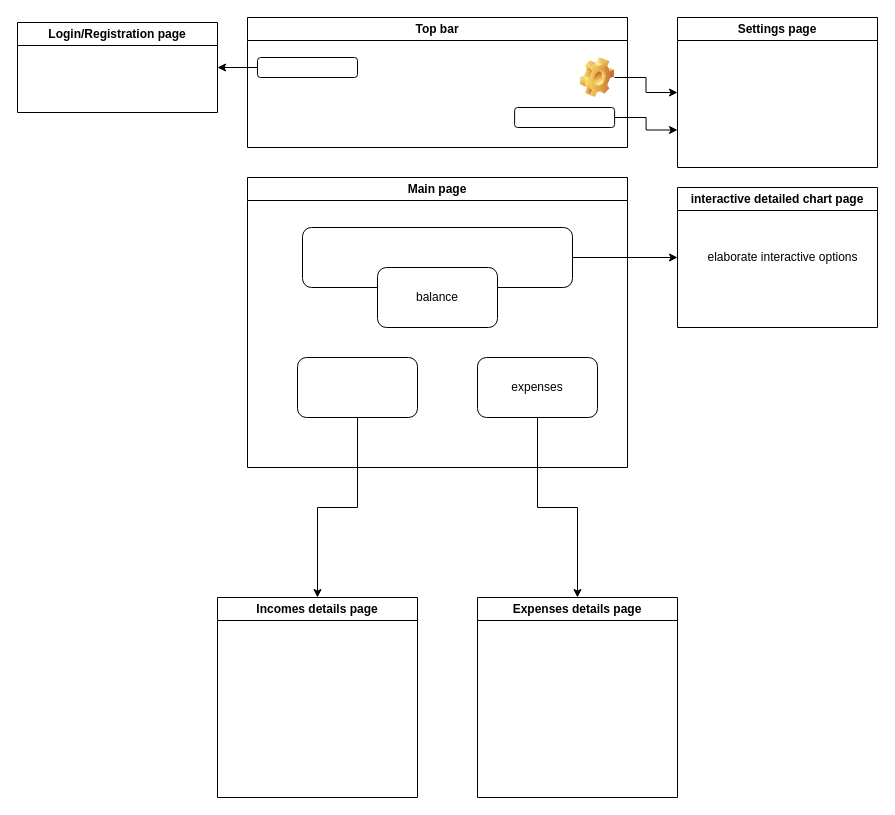
This 895x815 diagram has some shape labels left out. Each missing label, with the centre of its shape:
"chart" goes at point 437,257.
"incomes" goes at point 357,387.
"Login/Logout" goes at point 307,67.
"User Info" goes at point 564,117.
